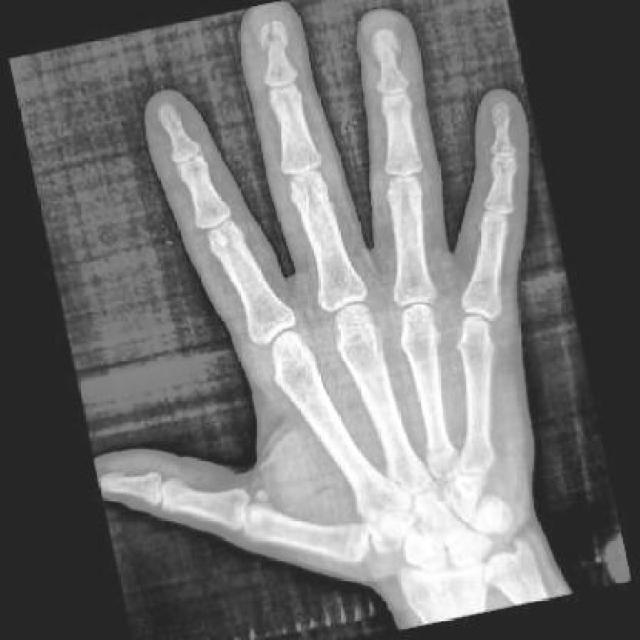bone: (366, 25, 404, 67), (254, 18, 293, 57), (152, 103, 183, 136), (488, 100, 514, 133)
